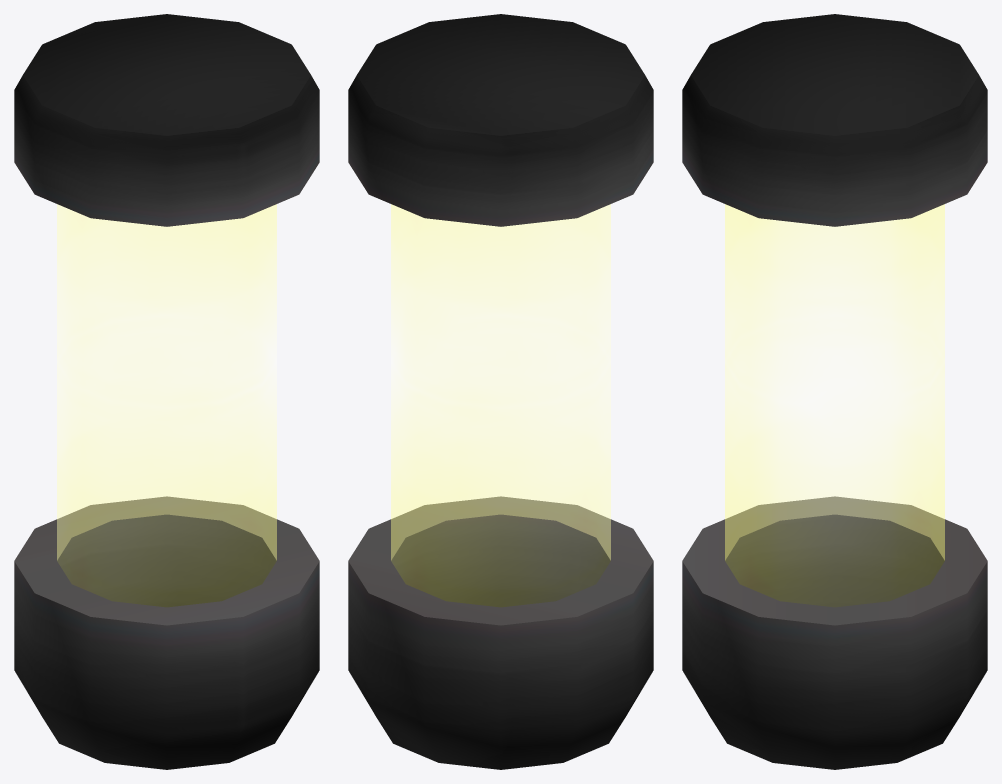
The model's file is EggIncubatorEmptyBlack.glb.
3 views of the same model, side by side, from view 1: azimuth 30°, elevation 25°; view 2: azimuth 150°, elevation 25°; view 3: azimuth 270°, elevation 25° (orthographic).
Visible parts, largest first — view 1: EggIncubatorEmptyBlack; view 2: EggIncubatorEmptyBlack; view 3: EggIncubatorEmptyBlack.
Boxes of the visible parts, bbox=[...] form: EggIncubatorEmptyBlack: bbox=[14, 14, 319, 769]; EggIncubatorEmptyBlack: bbox=[348, 14, 653, 769]; EggIncubatorEmptyBlack: bbox=[682, 14, 987, 769].
Bounding box in the file's own units: 1.77 × 4.11 × 1.77.
Materials: 2 (2 with a texture image).
